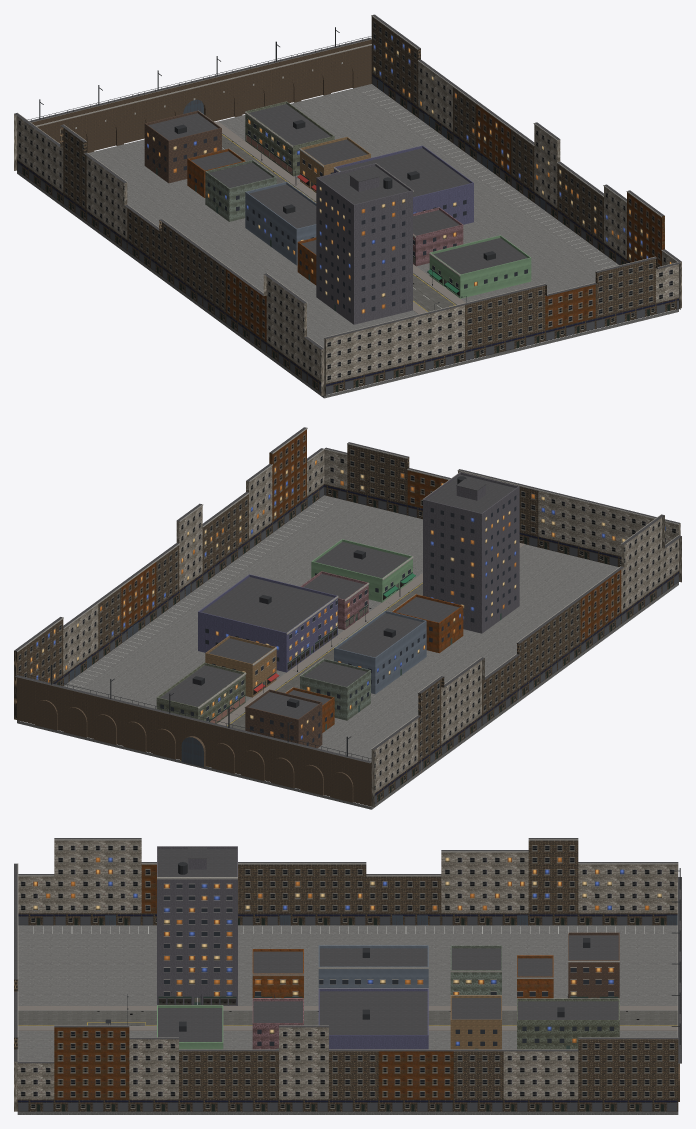
Rendered from street.glb.
The picture shows the model from 3 angles, top to bottom: view 1: azimuth 30°, elevation 25°; view 2: azimuth 150°, elevation 25°; view 3: azimuth 270°, elevation 25°; orthographic projection. The views are drawn at different scales.
Visible parts, largest first — view 1: Backlot_Ground, Edge_Upper_C, Edge_Upper_B, Roof_Felt, Viaduct_Brick, Facade_tower, Edge_Ground, Edge_Upper_A, Trim_Stone, Facade_w666, Facade_grocery, Facade_wfill1 (+13 smaller); view 2: Backlot_Ground, Roof_Felt, Edge_Upper_C, Edge_Upper_B, Viaduct_Brick, Facade_tower, Edge_Ground, Edge_Upper_A, Facade_mall, Trim_Stone, Facade_wfill1, Window_Lit (+12 smaller); view 3: Backlot_Ground, Edge_Upper_C, Edge_Upper_B, Roof_Felt, Edge_Ground, Edge_Upper_A, Facade_tower, Trim_Stone, Road_Asphalt, Window_Lit, Facade_efill, Facade_wfill1 (+15 smaller).
Boxes of the visible parts, x1,y1,x2,y2 form: Backlot_Ground: [17, 84, 678, 398]; Edge_Upper_C: [14, 62, 681, 396]; Edge_Upper_B: [60, 17, 657, 349]; Roof_Felt: [14, 14, 681, 349]; Viaduct_Brick: [31, 39, 371, 152]; Facade_tower: [316, 163, 412, 324]; Edge_Ground: [17, 73, 678, 394]; Edge_Upper_A: [226, 104, 664, 341]; Trim_Stone: [17, 15, 678, 348]; Facade_w666: [144, 110, 221, 183]; Facade_grocery: [429, 235, 531, 298]; Facade_wfill1: [245, 182, 316, 265]; Backlot_Ground: [17, 495, 678, 809]; Roof_Felt: [14, 427, 681, 762]; Edge_Upper_C: [63, 450, 681, 807]; Edge_Upper_B: [14, 444, 580, 760]; Viaduct_Brick: [17, 677, 371, 806]; Facade_tower: [423, 472, 519, 633]; Edge_Ground: [52, 484, 678, 803]; Edge_Upper_A: [121, 429, 621, 642]; Facade_mall: [198, 574, 337, 672]; Trim_Stone: [15, 427, 678, 763]; Facade_wfill1: [334, 610, 426, 694]; Window_Lit: [30, 460, 665, 739]; Backlot_Ground: [17, 925, 678, 1114]; Edge_Upper_C: [14, 840, 678, 1111]; Edge_Upper_B: [14, 840, 678, 1099]; Roof_Felt: [14, 838, 681, 1063]; Edge_Ground: [17, 913, 678, 1111]; Edge_Upper_A: [54, 864, 453, 1099]; Facade_tower: [157, 846, 237, 1005]; Trim_Stone: [17, 839, 681, 1063]; Road_Asphalt: [18, 1011, 677, 1025]; Window_Lit: [33, 857, 661, 1045]; Facade_efill: [517, 998, 619, 1049]; Facade_wfill1: [318, 945, 428, 988].
Bounding box in the file's own units: 122 × 42.35 × 182.
38 materials, 27 textured.
